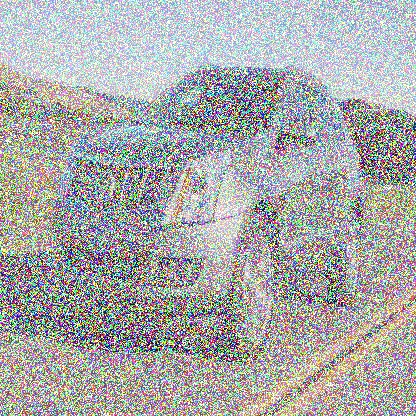Vehicle: (51, 65, 364, 366)
